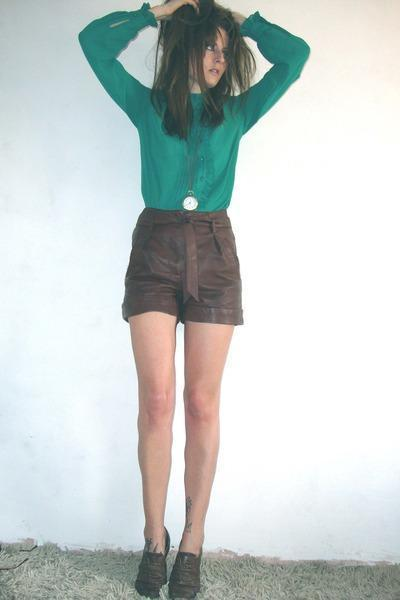shirt: (78, 3, 309, 213)
shoe: (139, 540, 201, 576)
shorts: (122, 207, 242, 326)
